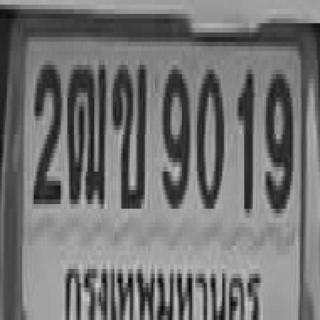A02: (111, 60, 145, 204)
A18: (66, 60, 104, 199)
N00: (195, 65, 222, 204)
N01: (236, 65, 253, 209)
N02: (32, 60, 61, 199)
N09: (160, 65, 189, 204), (264, 70, 292, 209)
P04: (60, 252, 265, 320)
